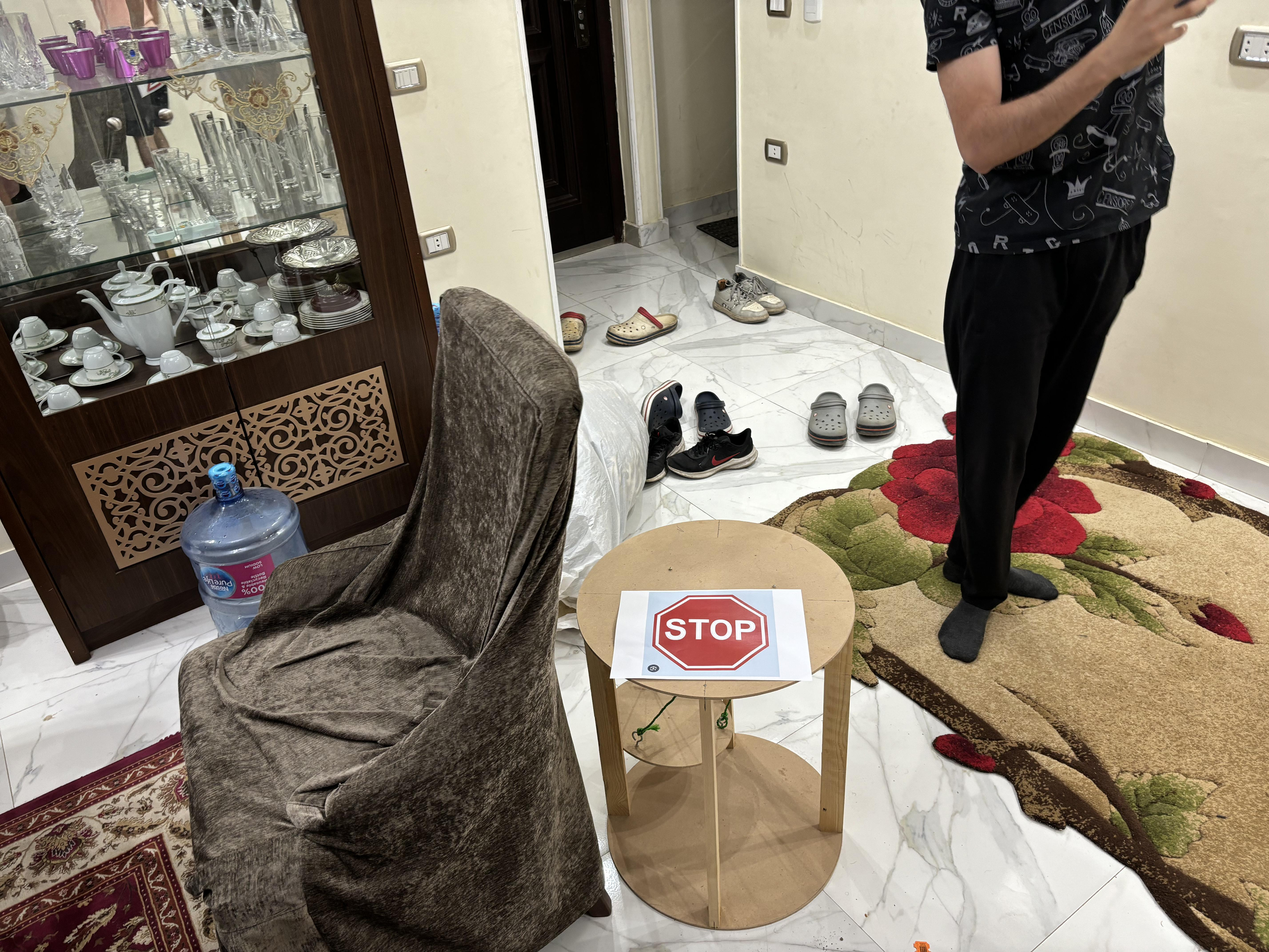Stop: (649, 592, 776, 684)
